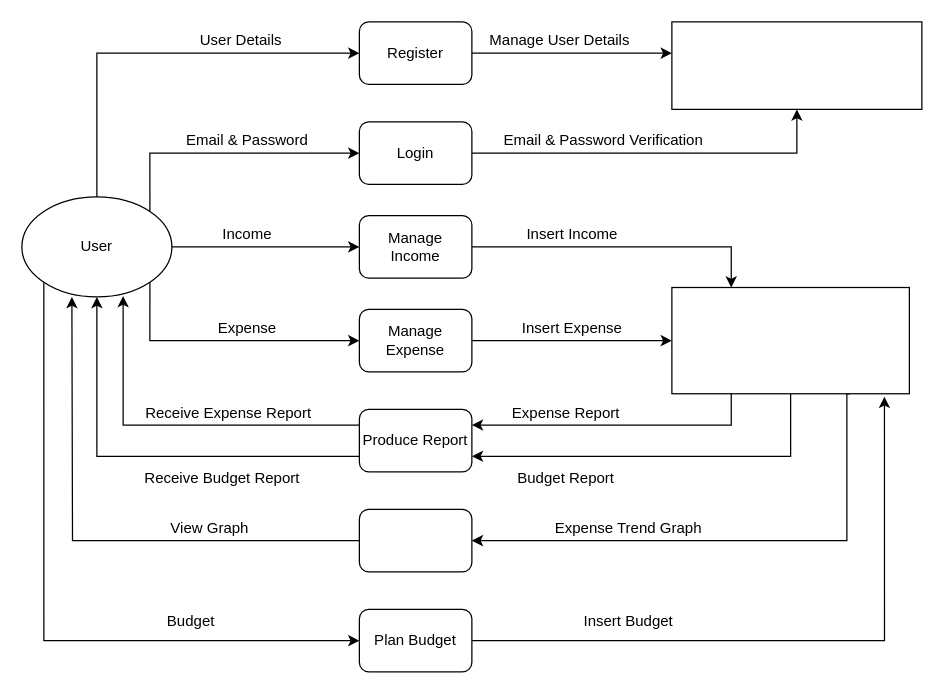
This 944x694 diagram has some shape labels left out. The centre of each missing label's shape, as x and y in pixels:
"Expense and Funds Details" belongs at (x=790, y=340).
"Produce Graph" belongs at (x=415, y=540).
"User Info" belongs at (x=796, y=65).
